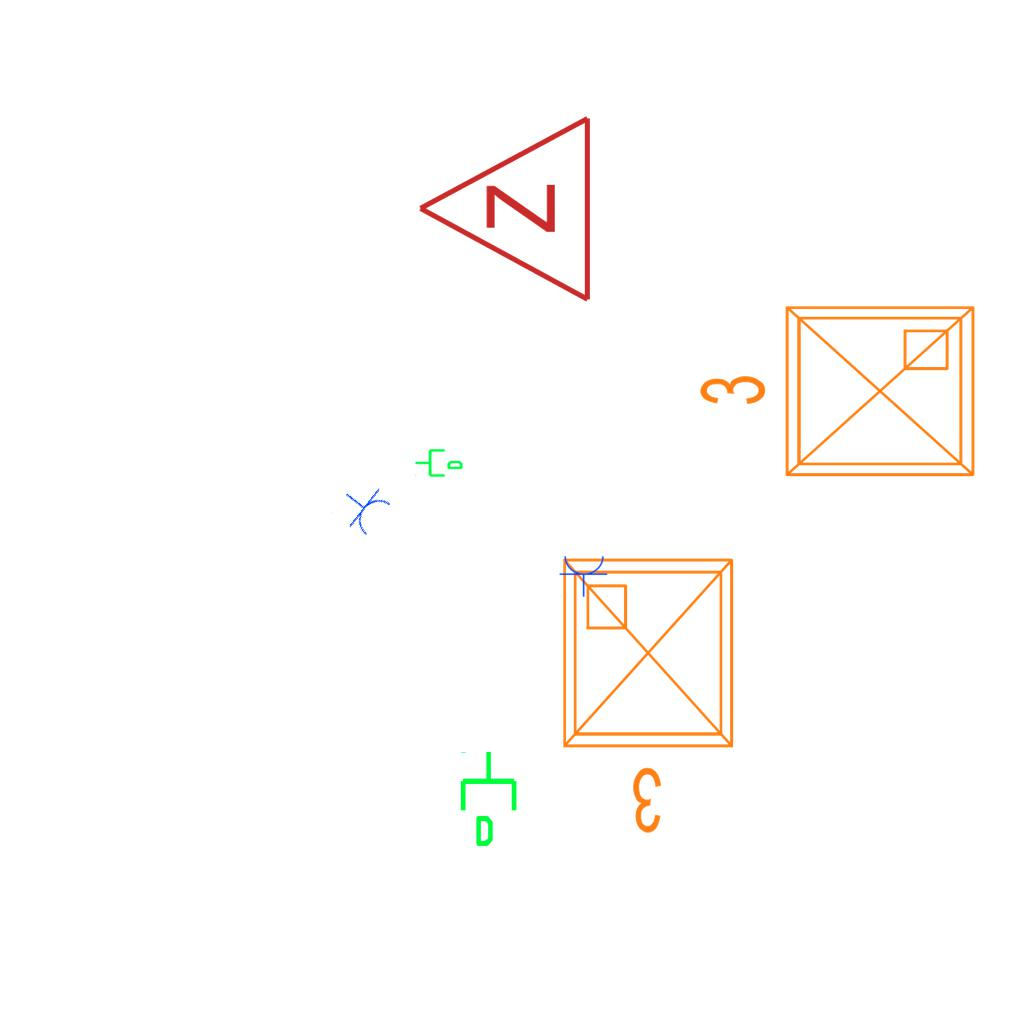Datenanschluss_einfach: (456, 749, 525, 849), (414, 445, 464, 479)
Einbaudownlights_LED_Konferenzraeume: (689, 291, 989, 499), (548, 544, 756, 844)
Schukosteckdose_einfach: (330, 474, 396, 541), (559, 554, 609, 597)
Zimmersignalleuchte: (405, 113, 605, 309)
